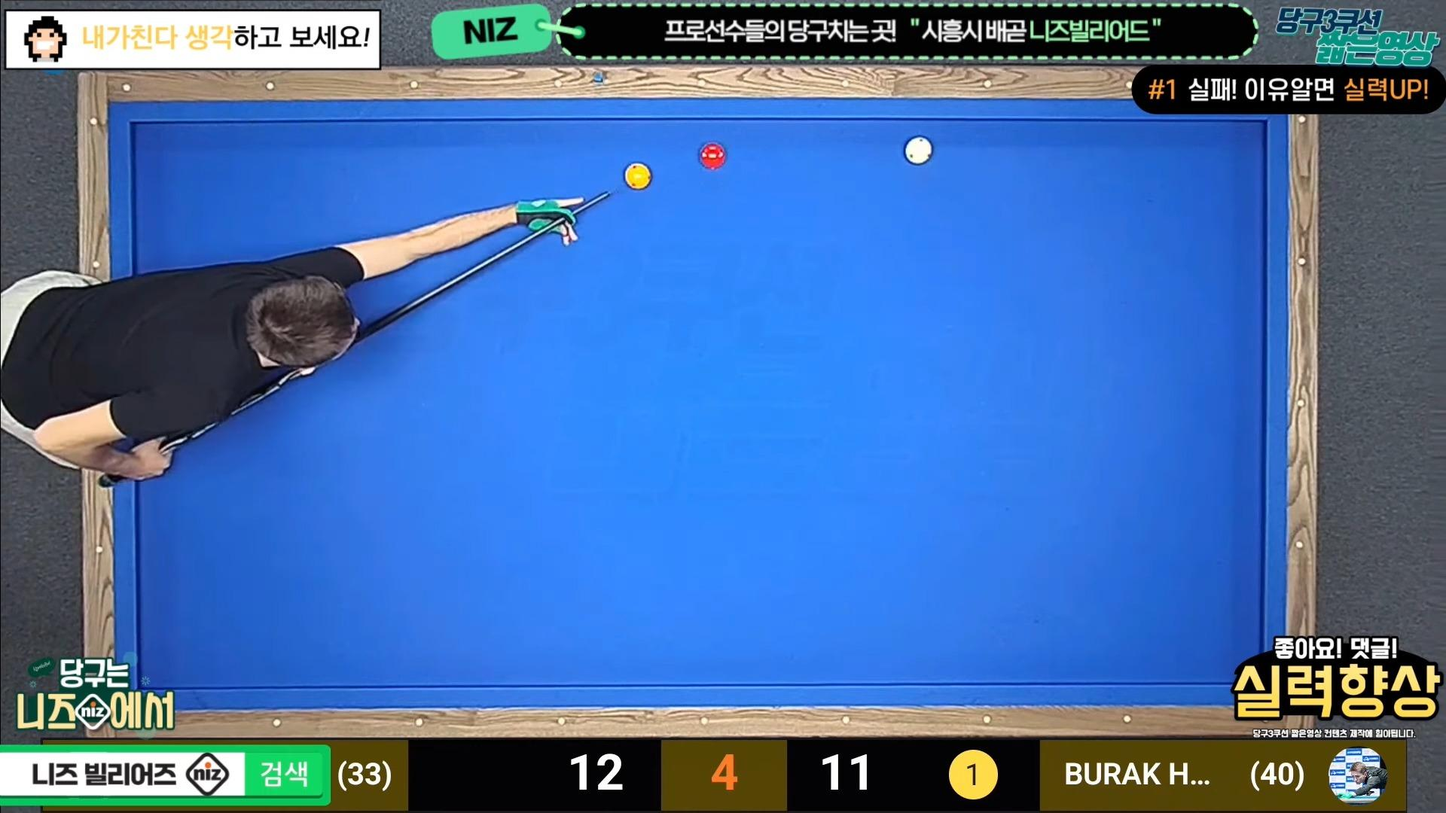Red: (699, 141, 731, 170)
White: (905, 135, 939, 165)
Yellow: (623, 163, 655, 192)
